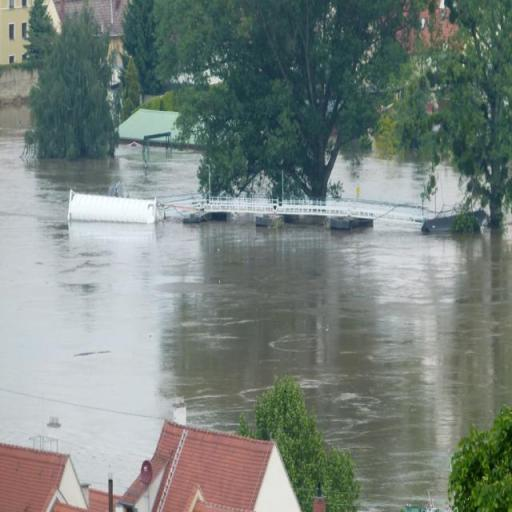flood: (0, 106, 512, 512), (333, 155, 426, 204), (427, 166, 463, 212)
house: (139, 424, 310, 512), (0, 433, 82, 512), (118, 106, 181, 152), (1, 3, 34, 73)
